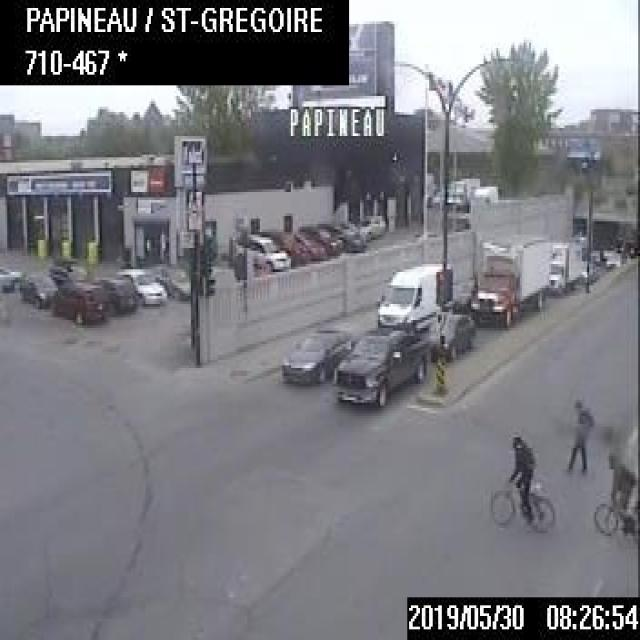cyclist: (485, 432, 553, 533), (589, 451, 638, 538)
pedestrian: (562, 394, 592, 474)
vehicle: (336, 324, 430, 410), (468, 240, 550, 324), (375, 262, 452, 326), (280, 324, 355, 384), (51, 280, 109, 323), (548, 235, 586, 298), (235, 232, 289, 276), (430, 312, 478, 359), (122, 265, 169, 309), (97, 272, 137, 317), (259, 228, 306, 262), (463, 181, 497, 227), (19, 273, 59, 308), (297, 223, 341, 254), (152, 264, 189, 299), (322, 217, 362, 248), (290, 229, 324, 259), (0, 265, 22, 292), (358, 214, 383, 236), (604, 248, 624, 268)
